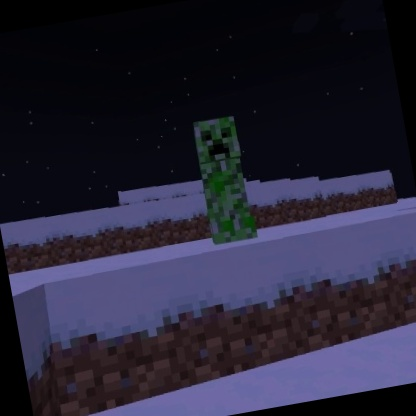creeper: (188, 110, 262, 249)
